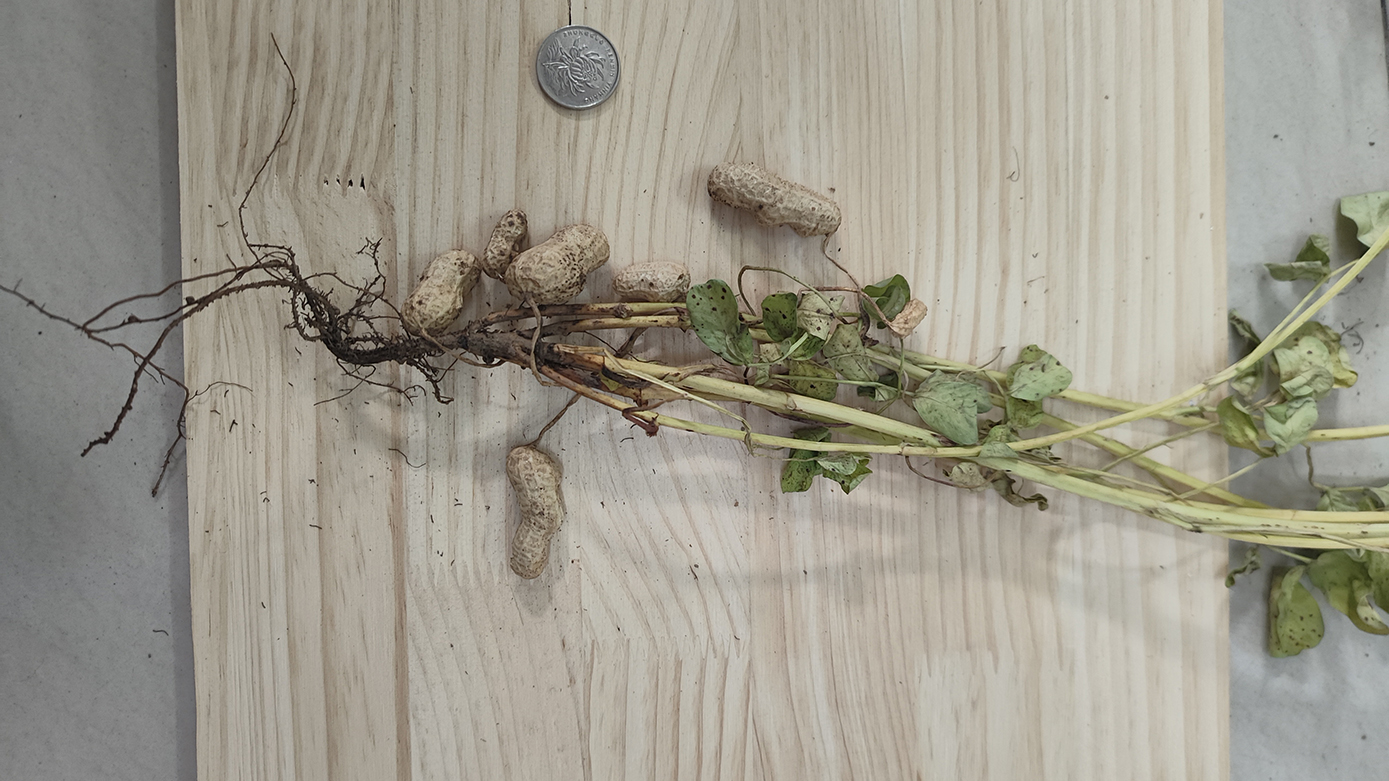h: (707, 162, 841, 237), (504, 222, 610, 309), (506, 446, 567, 580), (401, 250, 482, 336), (481, 207, 527, 280), (612, 260, 691, 301)
l: (891, 299, 929, 337)
